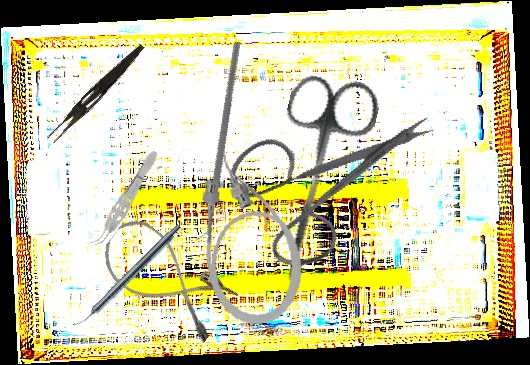Cannula: (191, 142, 309, 330), (92, 211, 241, 346)
Chopper: (127, 41, 305, 242)
Dressing Forceps: (46, 38, 147, 148)
Handpiece: (71, 220, 184, 333)
Iris Scissors: (204, 51, 441, 298), (249, 67, 384, 294)
Tissue Forceps: (87, 146, 163, 254)
